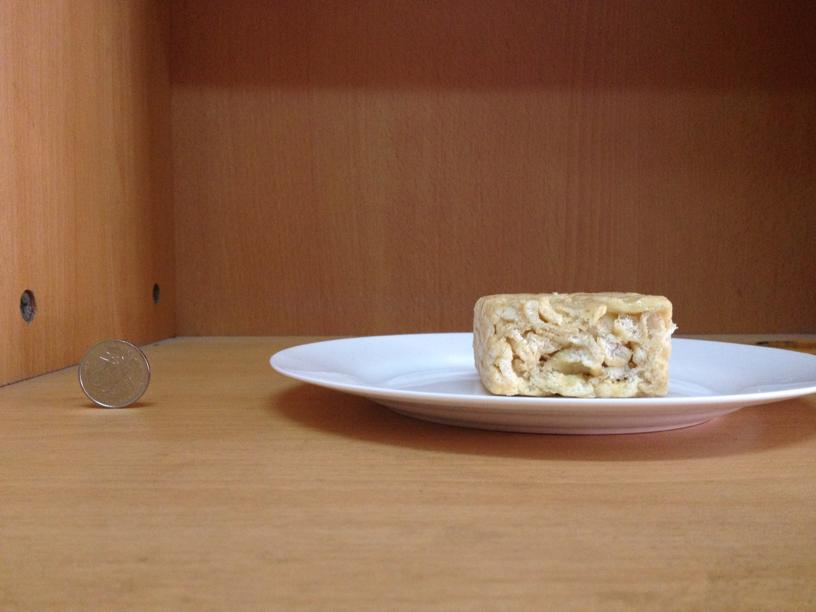coin: (76, 341, 148, 411)
sachima: (467, 292, 677, 398)
